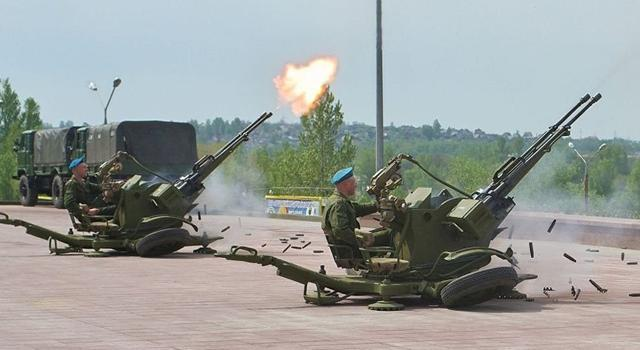MIL_SPG: (272, 94, 601, 309), (0, 113, 271, 256)
